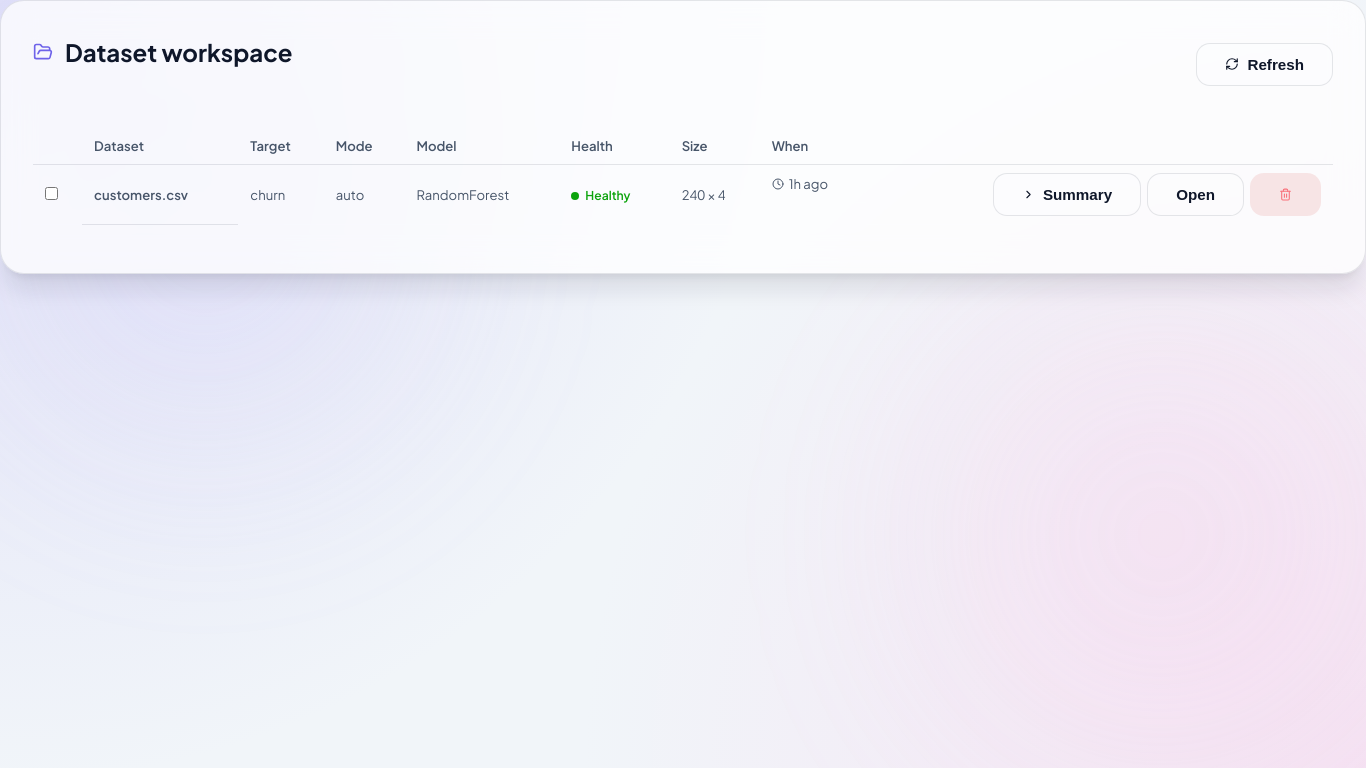
it: Workspace run preview › summarises a past run without reopening it
The image size is (1366, 768).
Click the button with aria-label "Summary of customers.csv" at (1067, 195), box [993,173,1141,216]
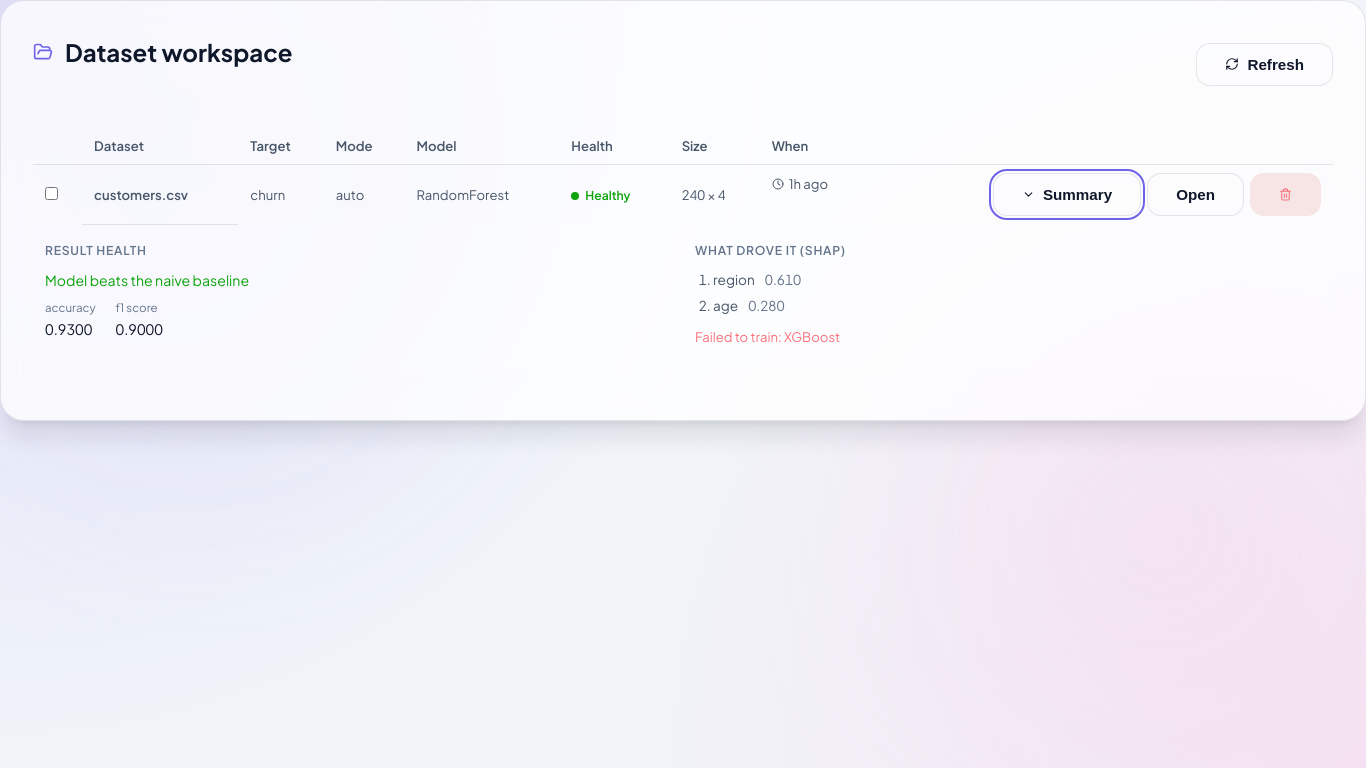
Result: the text "Model beats the naive baseline" is shown at [45,271,249,289]
Result: the text "region" is shown at [713,271,755,288]
Result: the text "accuracy" is shown at [45,299,96,318]
